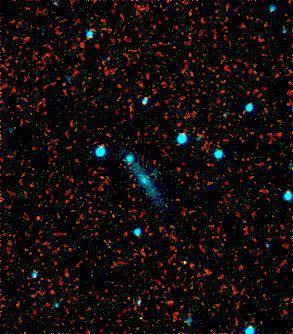star: (165, 245, 195, 275)
